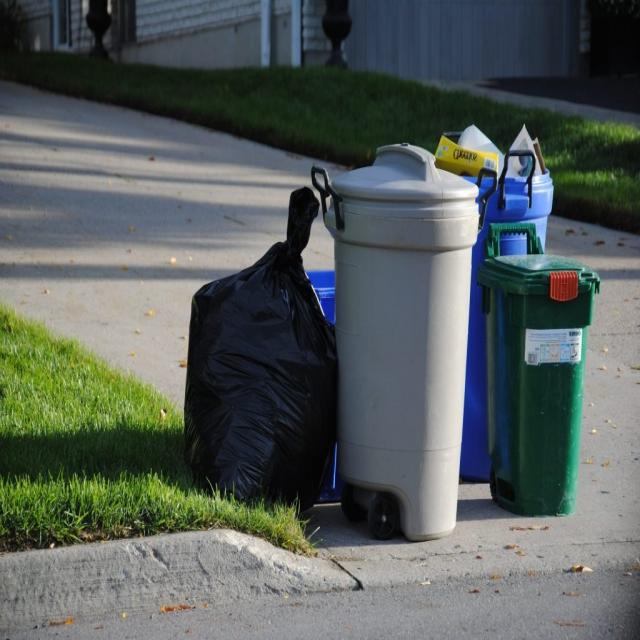sampah-detection: (182, 187, 341, 519), (428, 117, 550, 193)
